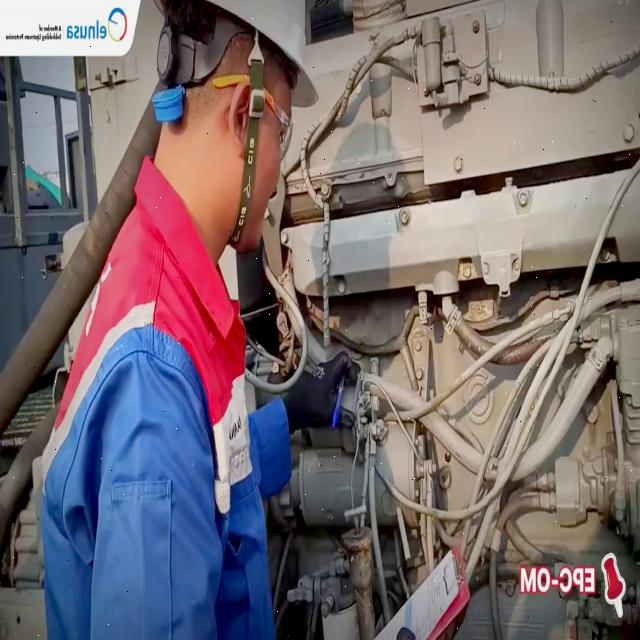Gloves: (289, 356, 360, 430)
Overall Suit: (42, 208, 292, 640)
Strapped: (233, 32, 265, 242)
